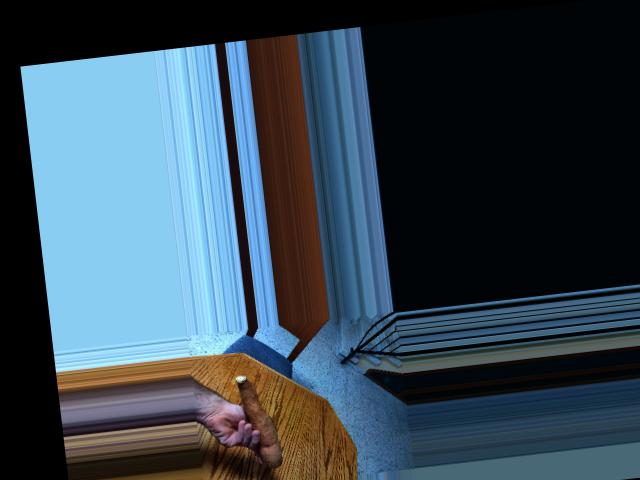sweet_potato: (233, 369, 286, 469)
